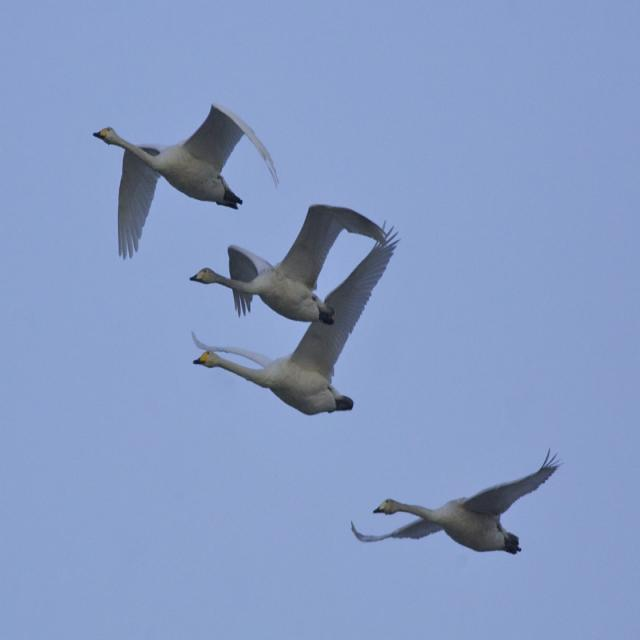bird: (190, 232, 394, 415), (91, 100, 276, 262), (175, 201, 390, 331), (348, 448, 564, 560)
